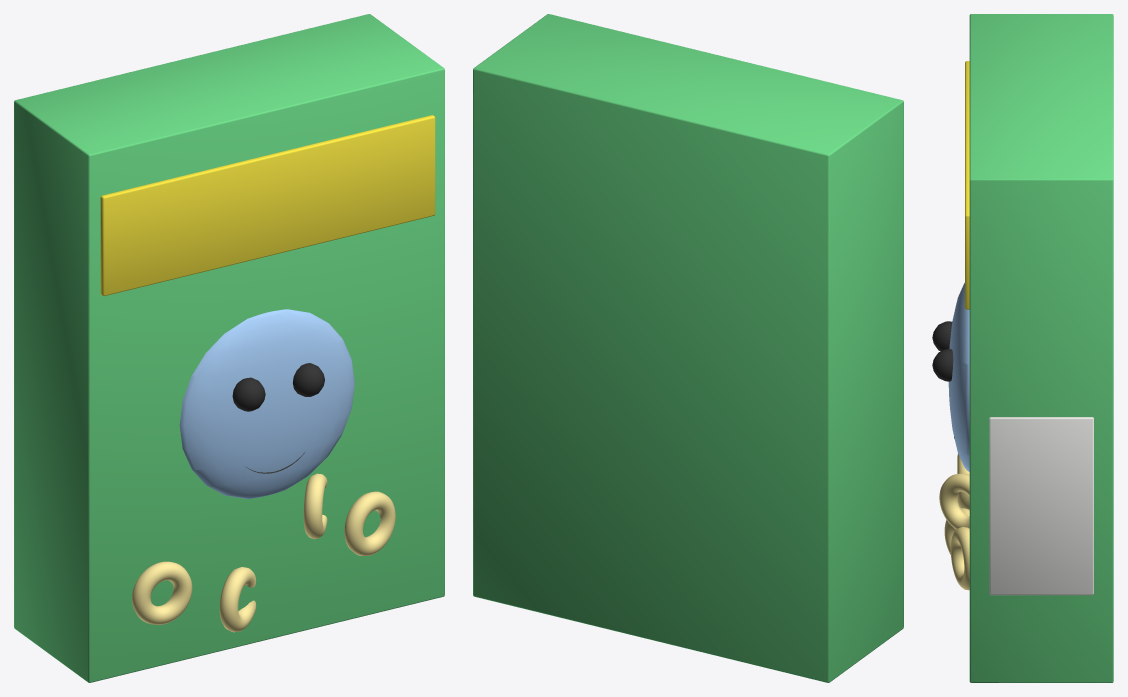
Rendered from cereal_box_2.glb.
3 views of the same model, side by side, from view 1: azimuth 30°, elevation 25°; view 2: azimuth 150°, elevation 25°; view 3: azimuth 270°, elevation 25° (orthographic). The views are drawn at different scales.
Visible parts, largest first — view 1: cereal_box_2; view 2: cereal_box_2; view 3: cereal_box_2.
Boxes of the visible parts, x1,y1,x2,y2 form: cereal_box_2: [14, 14, 444, 682]; cereal_box_2: [473, 14, 903, 682]; cereal_box_2: [932, 14, 1113, 682].
Size of the model in its own units: 0.6045 by 0.85 by 0.277.
